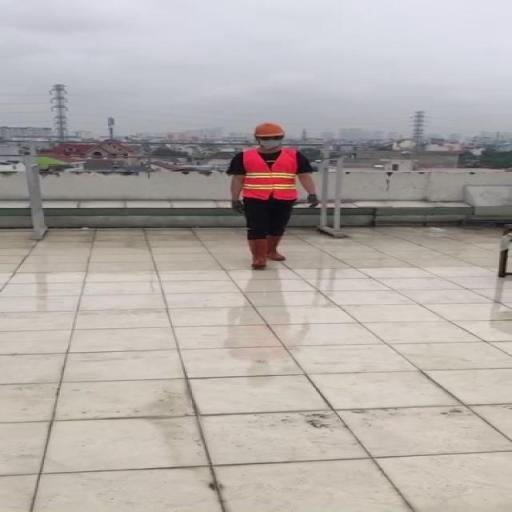Boots: (242, 236, 274, 269), (265, 232, 289, 262)
Helmet: (252, 122, 286, 138)
Person: (225, 121, 323, 271)
